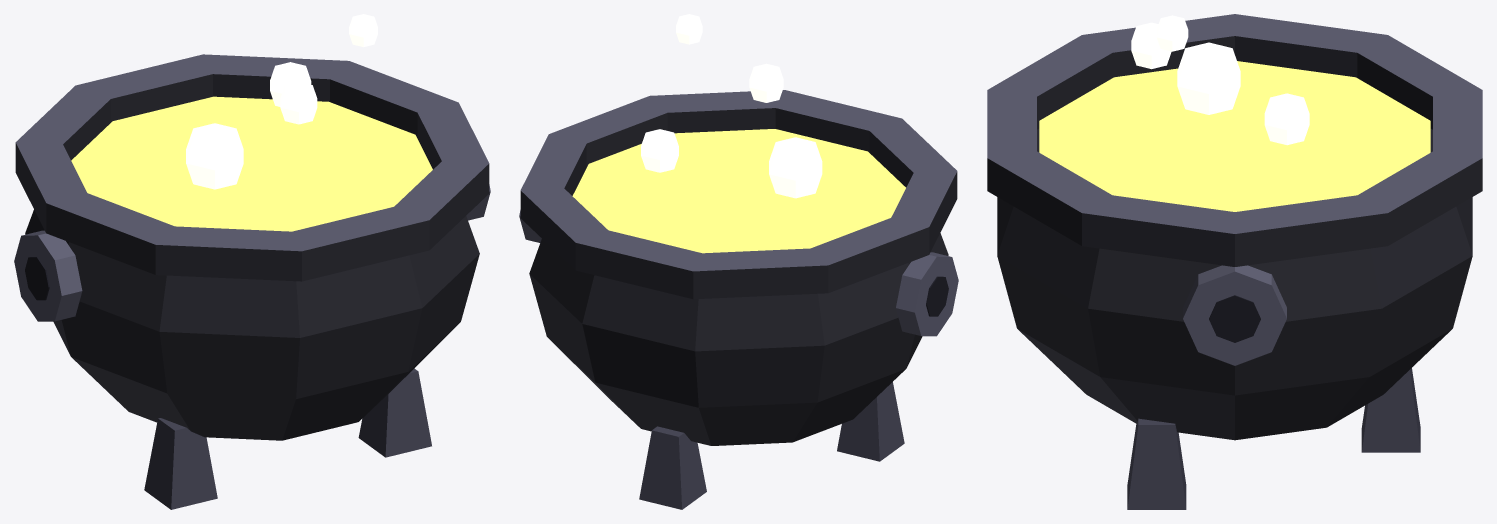
File: cauldron-1x1.glb
3 renders of one model, left to right at view 1: azimuth 30°, elevation 25°; view 2: azimuth 150°, elevation 25°; view 3: azimuth 270°, elevation 25°, orthographic. The views are drawn at different scales.
Parts seen in each view (by area): view 1: cauldron-1x1; view 2: cauldron-1x1; view 3: cauldron-1x1.
Boxes of the visible parts, x1,y1,x2,y2 form: cauldron-1x1: (14,14,490,509); cauldron-1x1: (519,14,958,509); cauldron-1x1: (987,14,1482,509).
Size of the model in its own units: 0.8 by 0.7572 by 0.7274.
Materials: 1 (1 with a texture image).
